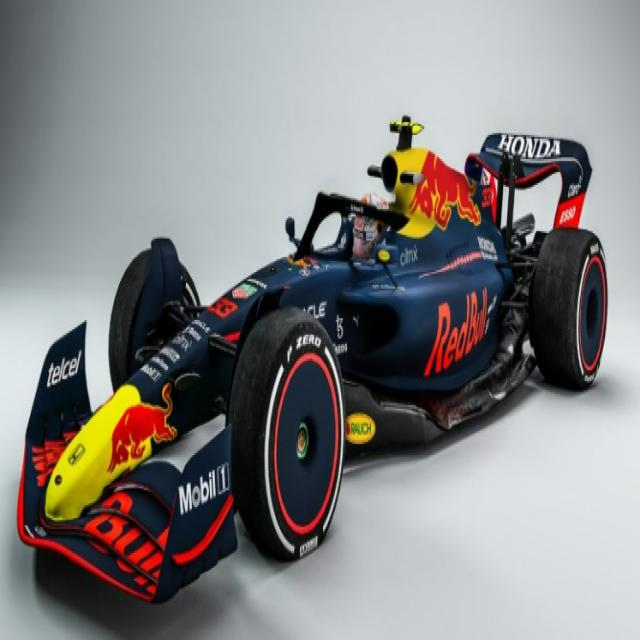F1: (17, 116, 608, 603)
